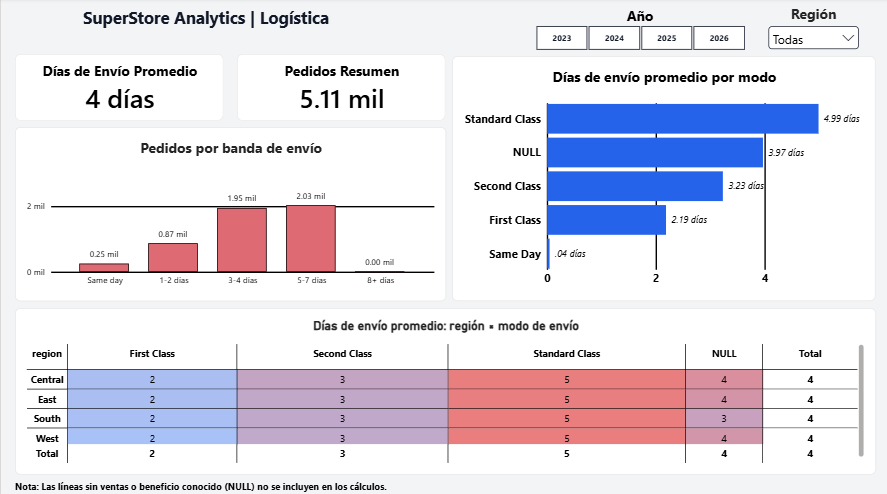

Layout of this report page (visuals, bound fields, positions):
{"tool":"powerbi","page":{"name":"Logística","canvas":[1280,720],"ordinal":3},"visuals":[{"type":"textbox","box":[20,12,550,56],"z":0},{"type":"slicer","title":"Año","fields":{"Values":["Calendario.Año"]},"box":[750,11.5,339.8,64.8],"z":1000},{"type":"slicer","title":"Región","fields":{"Values":["order_summary.region"]},"box":[1100,8.6,139.7,74.9],"z":2000},{"type":"textbox","box":[20,694,900,20],"z":3000},{"type":"cardVisual","title":"Total ","fields":{"Data":["order_summary.Días de Envío Promedio"]},"box":[20,80,300,96],"z":4000},{"type":"cardVisual","title":"Total ","fields":{"Data":["order_summary.Pedidos Resumen"]},"box":[340,80,300,96],"z":5000},{"type":"clusteredColumnChart","title":"Pedidos por banda de envío","fields":{"Category":["order_summary.Banda Envío"],"Y":["order_summary.Pedidos Resumen"]},"box":[20.1,185.7,620.7,250.7],"z":6000},{"type":"clusteredBarChart","title":"Días de envío promedio por modo","fields":{"Category":["order_summary.ship_mode"],"Y":["order_summary.Días de Envío Promedio"]},"box":[650.1,83.6,609.8,352.9],"z":7000},{"type":"pivotTable","title":"Días de envío promedio: región × modo de envío","fields":{"Columns":["order_summary.ship_mode"],"Rows":["order_summary.region"],"Values":["order_summary.Días de Envío Promedio"]},"box":[20,446,1240,240],"z":8000}]}

Visuals, with their boxes in screenshot pixels (x1, y1, x2, y2), scaled from the page's 1280x720 canvas onto the 887x494 screenshot:
textbox: {"x1": 14, "y1": 8, "x2": 395, "y2": 47}
"Año" slicer: {"x1": 520, "y1": 8, "x2": 755, "y2": 52}
"Región" slicer: {"x1": 762, "y1": 6, "x2": 859, "y2": 57}
textbox: {"x1": 14, "y1": 476, "x2": 638, "y2": 490}
"Total " cardVisual: {"x1": 14, "y1": 55, "x2": 222, "y2": 121}
"Total " cardVisual: {"x1": 236, "y1": 55, "x2": 444, "y2": 121}
"Pedidos por banda de envío" clusteredColumnChart: {"x1": 14, "y1": 127, "x2": 444, "y2": 299}
"Días de envío promedio por modo" clusteredBarChart: {"x1": 450, "y1": 57, "x2": 873, "y2": 299}
"Días de envío promedio: región × modo de envío" pivotTable: {"x1": 14, "y1": 306, "x2": 873, "y2": 471}
